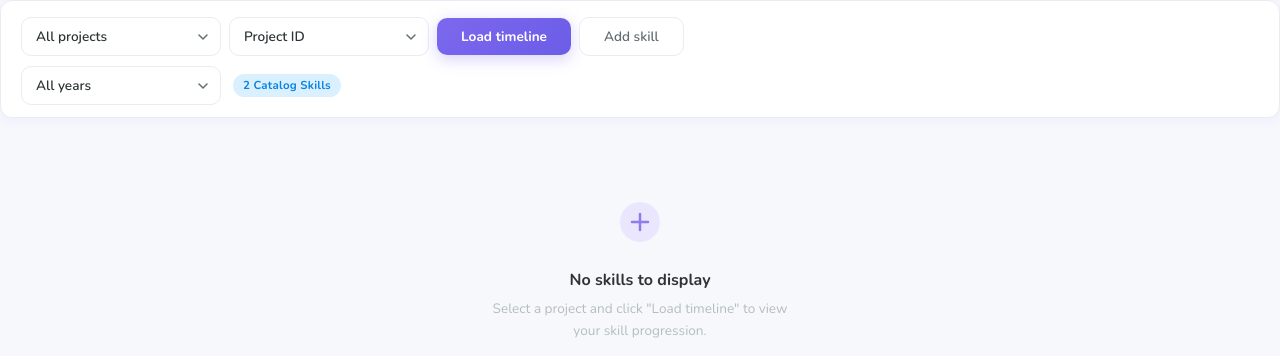
Test: SkillsTimeline › loads timeline using project-id lookup mode
Expected: the button "Load timeline" is enabled, [437,18,571,55]
Select "Alpha (ziphash0)" in the dropdown named "Project selector". click: (121, 36)
box: [21,17,221,56]
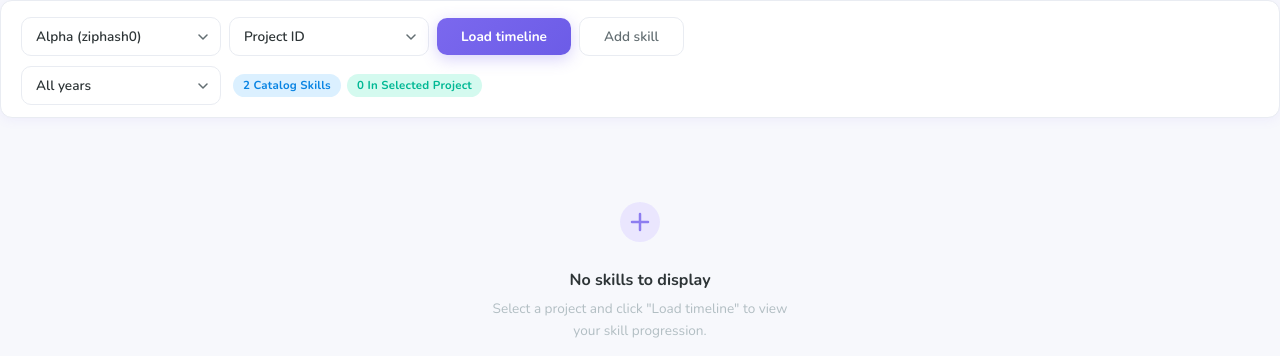
Click the button "Load timeline". click: (504, 36)
box: [437,18,571,55]
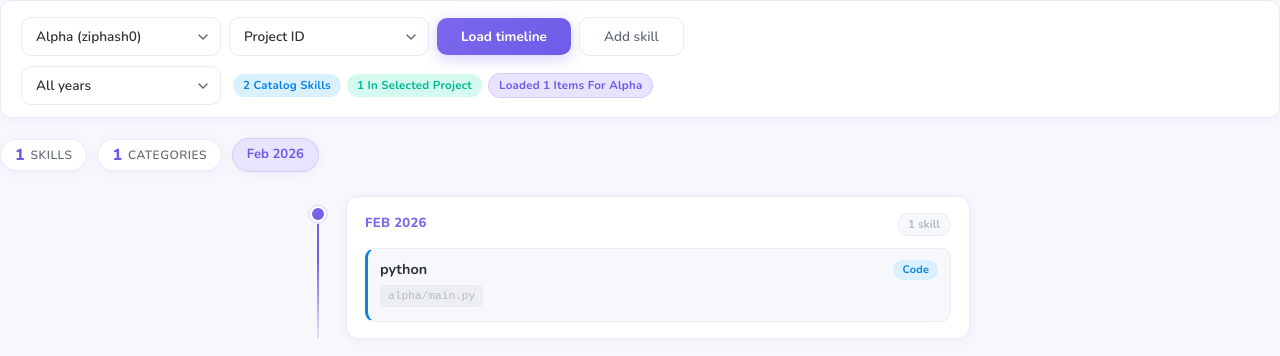
Expected: the heading "python" is shown, [380,259,427,279]
